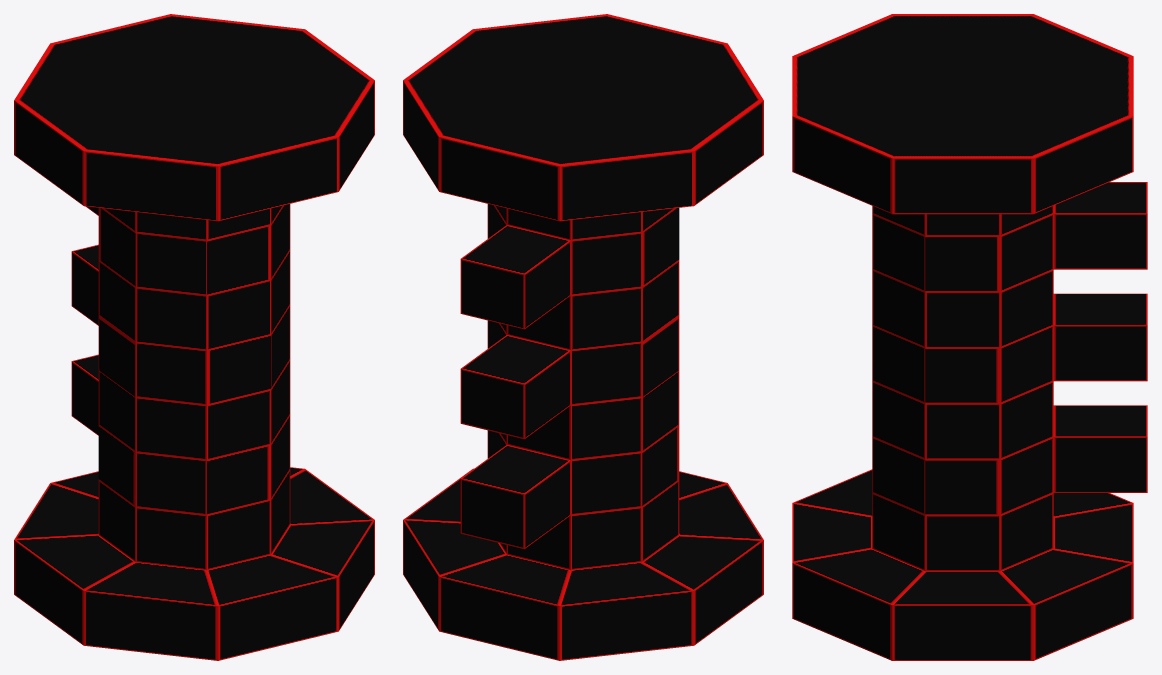
The model's file is TurnstileTypeB.fbx.
3 renders of one model, left to right at view 1: azimuth 30°, elevation 25°; view 2: azimuth 150°, elevation 25°; view 3: azimuth 270°, elevation 25°, orthographic.
Visible parts, largest first — view 1: pCylinder5; view 2: pCylinder5; view 3: pCylinder5.
Part boxes in pixels (left/top/right/bottom): pCylinder5: left=14, top=14, right=374, bottom=660; pCylinder5: left=403, top=14, right=763, bottom=660; pCylinder5: left=792, top=14, right=1147, bottom=660.
Size of the model in its own units: 5.54 by 9 by 5.77.
